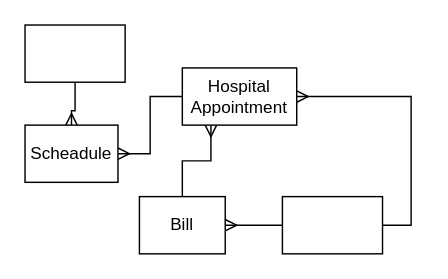
Image size: 448x279. Some labels were removed from this diagram. The shapes that lost their labels are listed below. From the top down, each one's centre as x and y in pixels, then its label:
At point (74, 53): "Doctor".
At point (332, 224): "Patient".
